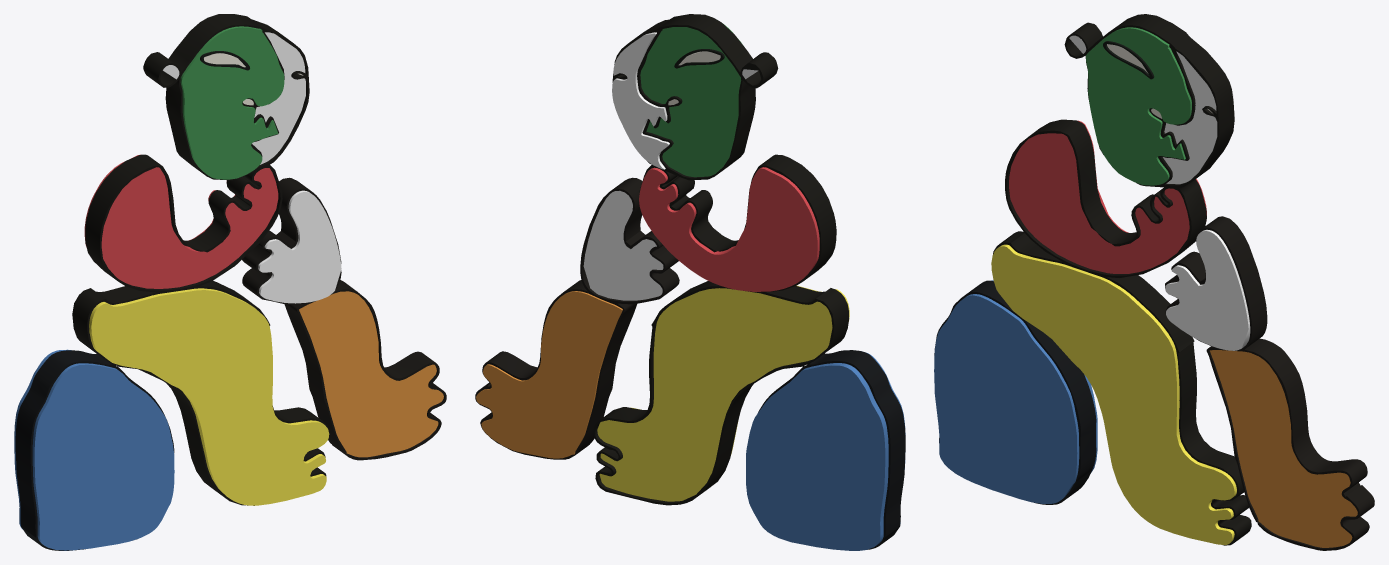
File: atlas.glb
The picture shows the model from 3 angles, left to right: view 1: azimuth 30°, elevation 25°; view 2: azimuth 150°, elevation 25°; view 3: azimuth 330°, elevation 25°; orthographic projection. The views are drawn at different scales.
Parts seen in each view (by area): view 1: Shape 18, Shape 2, Shape 7, Shape 4, Shape 0, Shape 11, Shape 5, Shape 6, Shape 1, Shape 8; view 2: Shape 18, Shape 2, Shape 7, Shape 4, Shape 0, Shape 11, Shape 5, Shape 6, Shape 1, Shape 8; view 3: Shape 18, Shape 2, Shape 7, Shape 4, Shape 0, Shape 11, Shape 5, Shape 6, Shape 1, Shape 8.
Part boxes in pixels (<box>): Shape 18: <box>89,288,329,505</box>; Shape 2: <box>14,349,174,550</box>; Shape 7: <box>72,14,327,505</box>; Shape 4: <box>299,291,443,457</box>; Shape 0: <box>84,154,278,288</box>; Shape 11: <box>180,26,284,179</box>; Shape 5: <box>242,177,446,460</box>; Shape 6: <box>258,190,341,303</box>; Shape 1: <box>15,350,174,537</box>; Shape 8: <box>252,32,305,164</box>; Shape 18: <box>597,285,849,501</box>; Shape 2: <box>746,352,905,550</box>; Shape 7: <box>593,14,849,505</box>; Shape 4: <box>476,291,622,458</box>; Shape 0: <box>639,167,819,291</box>; Shape 11: <box>640,23,741,177</box>; Shape 5: <box>475,177,679,459</box>; Shape 6: <box>583,190,679,300</box>; Shape 1: <box>758,350,905,537</box>; Shape 8: <box>612,32,669,169</box>; Shape 18: <box>991,244,1236,545</box>; Shape 2: <box>934,280,1097,503</box>; Shape 7: <box>993,14,1251,545</box>; Shape 4: <box>1210,350,1357,547</box>; Shape 0: <box>1009,120,1206,273</box>; Shape 11: <box>1085,27,1191,185</box>; Shape 5: <box>1165,216,1374,550</box>; Shape 6: <box>1165,229,1250,350</box>; Shape 1: <box>934,280,1096,481</box>; Shape 8: <box>1163,38,1234,184</box>.
Size of the model in its own units: 5.4 by 6.1 by 0.4759.
